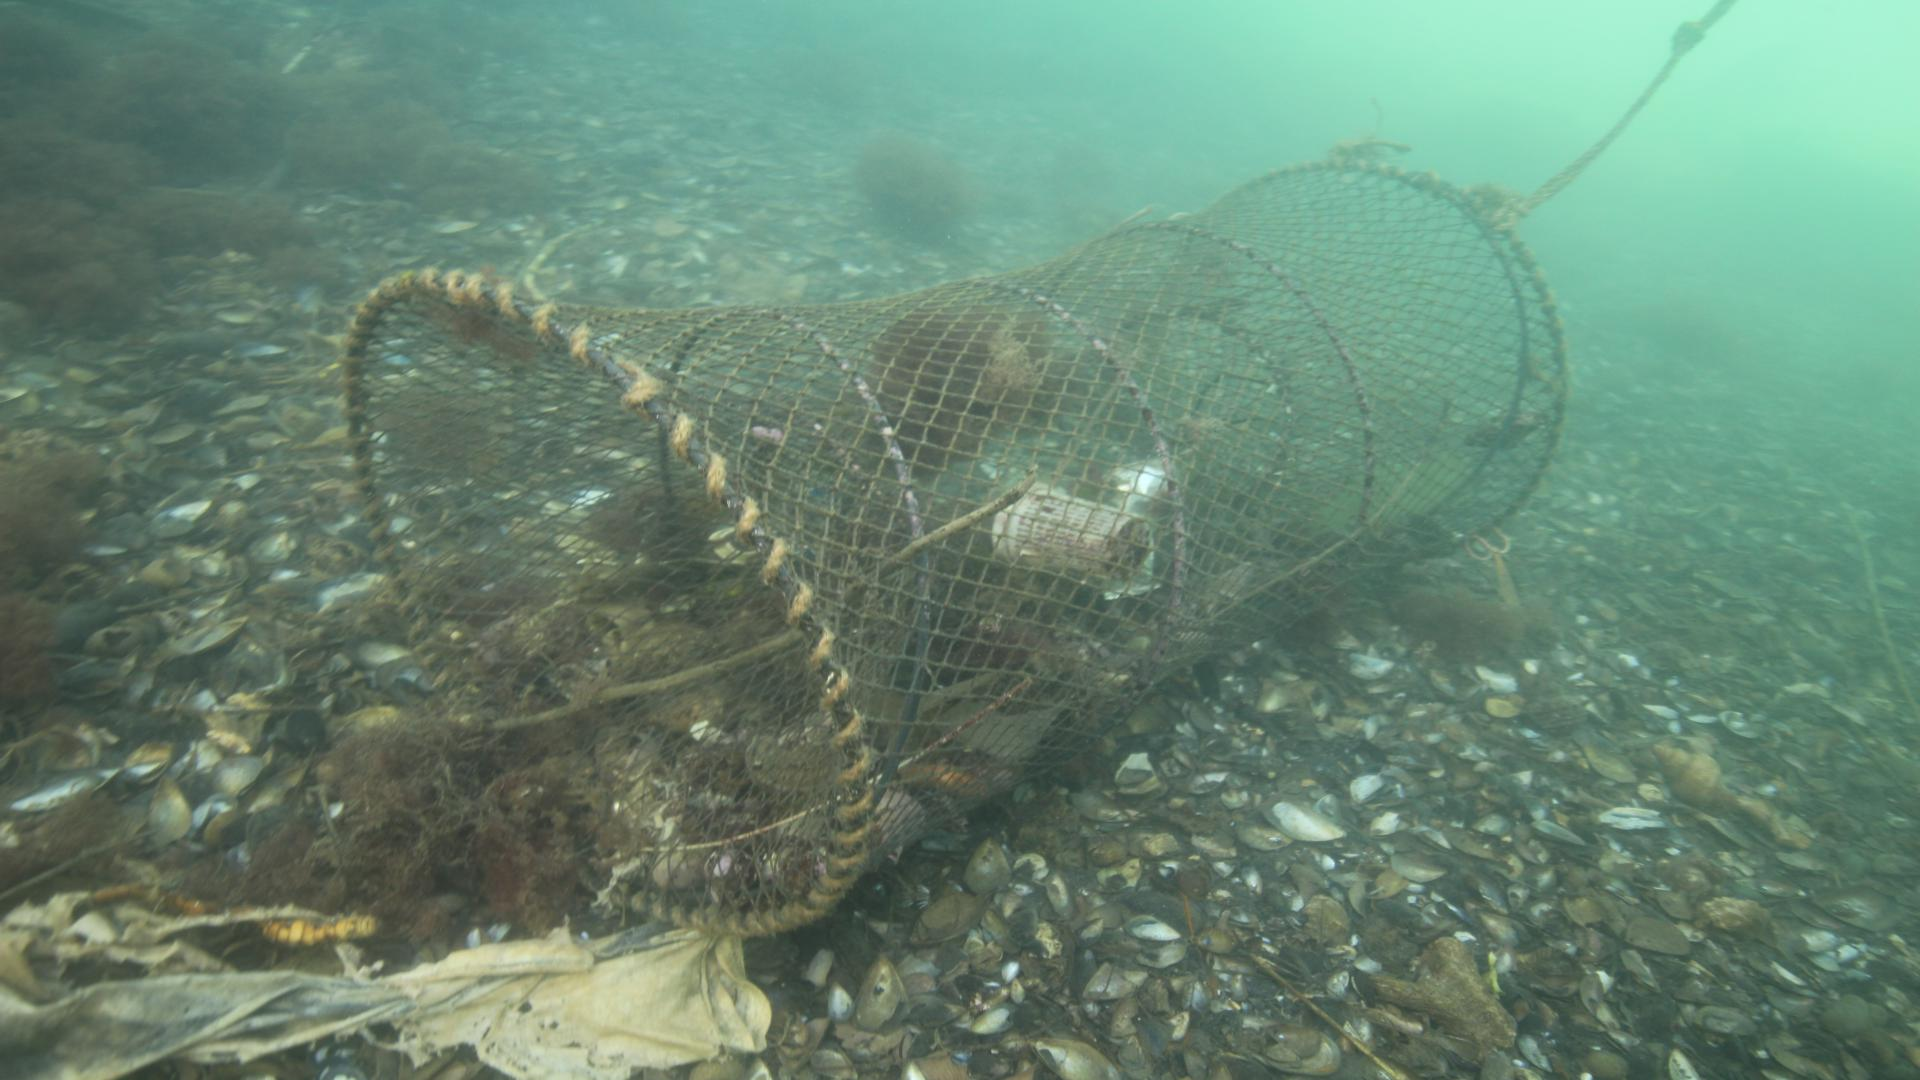rope: (1495, 3, 1737, 229)
spring fish trap: (338, 158, 1568, 935)
